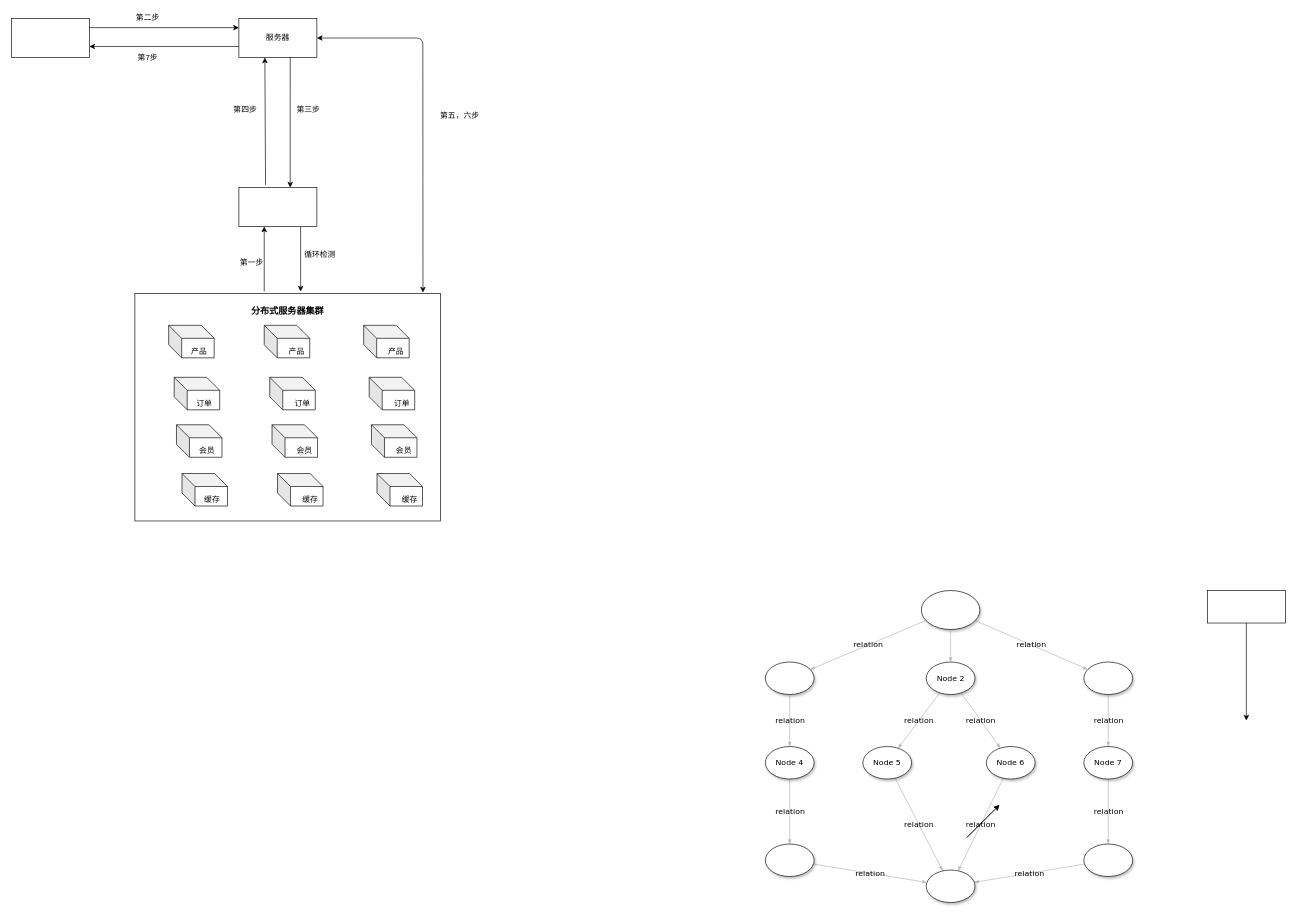
Some shapes in this 1297 by 918 pixel diagram are drawn without their labels. Here are the shapes that lost their labels. From the top down, the centre of each, then its label:
At point (50, 38): "客户".
At point (277, 207): "注册中心（consul）".
At point (951, 610): "Starting node".
At point (790, 679): "Node 1".
At point (1109, 679): "Node 3".
At point (790, 861): "Node 8".
At point (1109, 861): "Node 9".
At point (951, 887): "End node".
